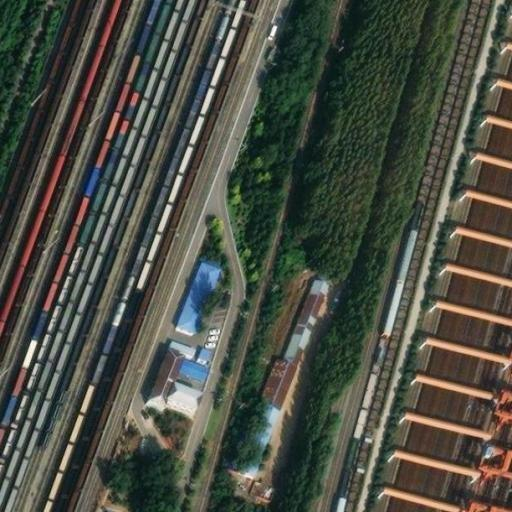building: (229, 271, 330, 471), (145, 330, 215, 411), (174, 251, 221, 327), (481, 79, 512, 121)
